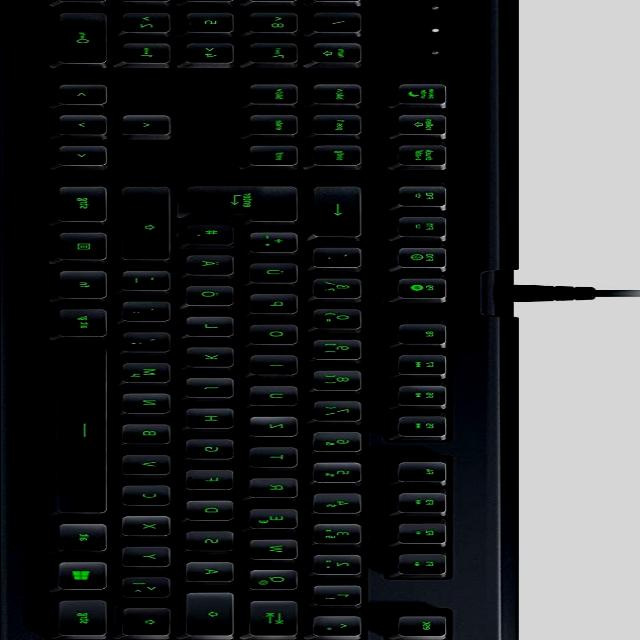0: (315, 309, 369, 333)
1: (316, 586, 368, 609)
2: (315, 556, 369, 578)
3: (315, 524, 369, 548)
4: (315, 495, 369, 517)
5: (315, 463, 369, 486)
6: (315, 432, 369, 456)
7: (315, 401, 369, 424)
8: (315, 371, 369, 394)
9: (315, 339, 369, 363)
a: (189, 563, 241, 586)
accent: (316, 249, 368, 271)
ae: (188, 256, 240, 278)
alt-left: (61, 525, 113, 555)
altgr-right: (61, 310, 113, 340)
b: (125, 425, 177, 448)
c: (125, 486, 177, 509)
caret: (316, 617, 368, 640)
comma: (126, 333, 178, 355)
d: (189, 501, 241, 524)
del: (314, 187, 368, 241)
e: (252, 510, 304, 532)
enter: (183, 186, 306, 226)
f: (188, 471, 240, 493)
g: (189, 440, 241, 463)
h: (189, 410, 241, 432)
hash: (187, 225, 241, 249)
i: (254, 356, 304, 378)
j: (189, 379, 241, 401)
k: (189, 348, 241, 371)
keyboard: (6, 0, 510, 640)
l: (189, 318, 241, 340)
less: (124, 578, 178, 602)
m: (125, 363, 177, 387)
minus: (125, 272, 177, 294)
n: (125, 394, 177, 416)
o: (252, 325, 304, 348)
oe: (188, 286, 240, 309)
p: (252, 294, 304, 317)
plus: (252, 233, 304, 255)
point: (127, 302, 177, 324)
q: (252, 570, 304, 594)
r: (252, 479, 304, 501)
s: (189, 531, 241, 554)
shift-left: (126, 610, 176, 640)
shift-lock: (187, 593, 239, 639)
shift-right: (124, 188, 176, 263)
space: (55, 347, 115, 518)
ss: (315, 279, 367, 302)
strg-left: (60, 601, 114, 640)
strg-right: (60, 186, 114, 226)
t: (254, 449, 304, 471)
tab: (251, 601, 303, 640)
u: (253, 387, 305, 409)
ue: (252, 264, 304, 286)
v: (126, 455, 178, 478)
w: (253, 541, 305, 563)
x: (125, 517, 177, 539)
y: (125, 548, 177, 570)
z: (252, 417, 304, 439)
